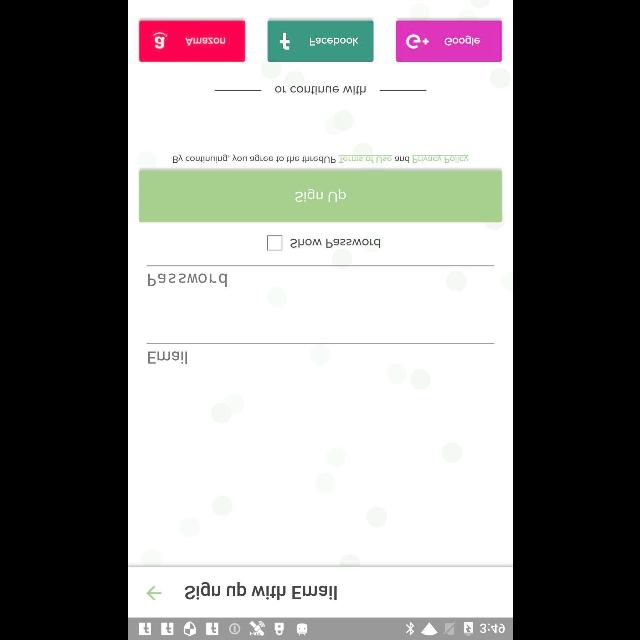checkbox: (266, 236, 282, 250)
icon: (146, 586, 160, 600)
input: (146, 343, 494, 365), (146, 265, 494, 287)
text: (172, 154, 468, 164), (184, 582, 336, 600), (148, 274, 226, 286), (289, 238, 379, 248), (274, 86, 366, 94), (148, 352, 186, 364)
textbutton: (139, 170, 501, 222), (139, 20, 245, 61), (268, 20, 372, 61), (396, 20, 500, 61), (412, 154, 468, 164), (337, 154, 391, 164)
uppertaskbar: (128, 617, 512, 639)
